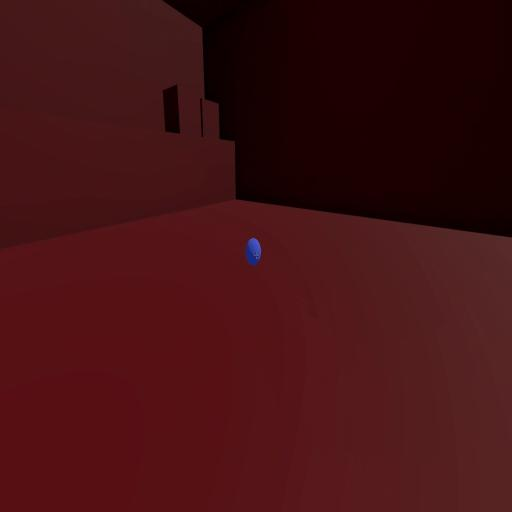Crosshair: (254, 252, 259, 261)
Target: (244, 237, 263, 270)
